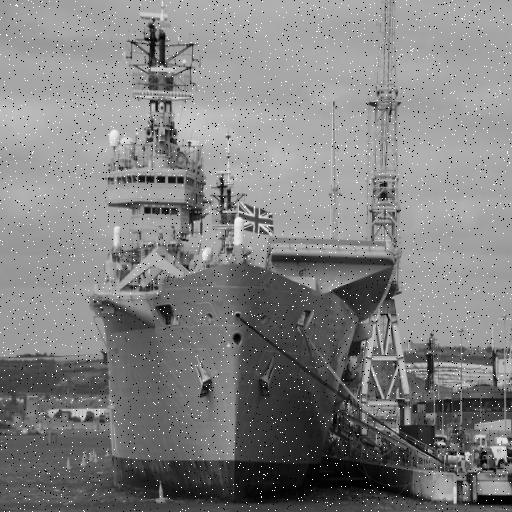Portanaves: (92, 1, 407, 502)
